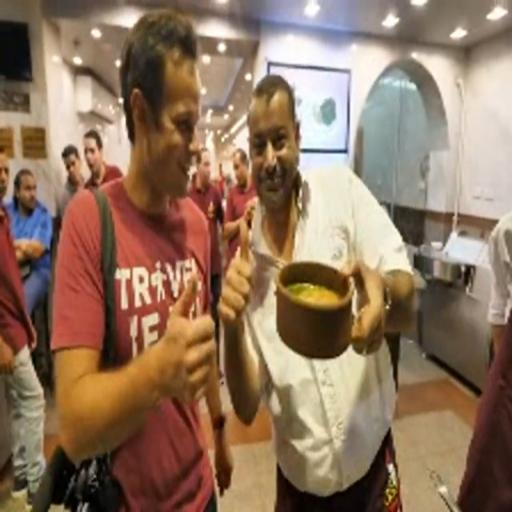nao-violencia: (43, 2, 424, 505)
